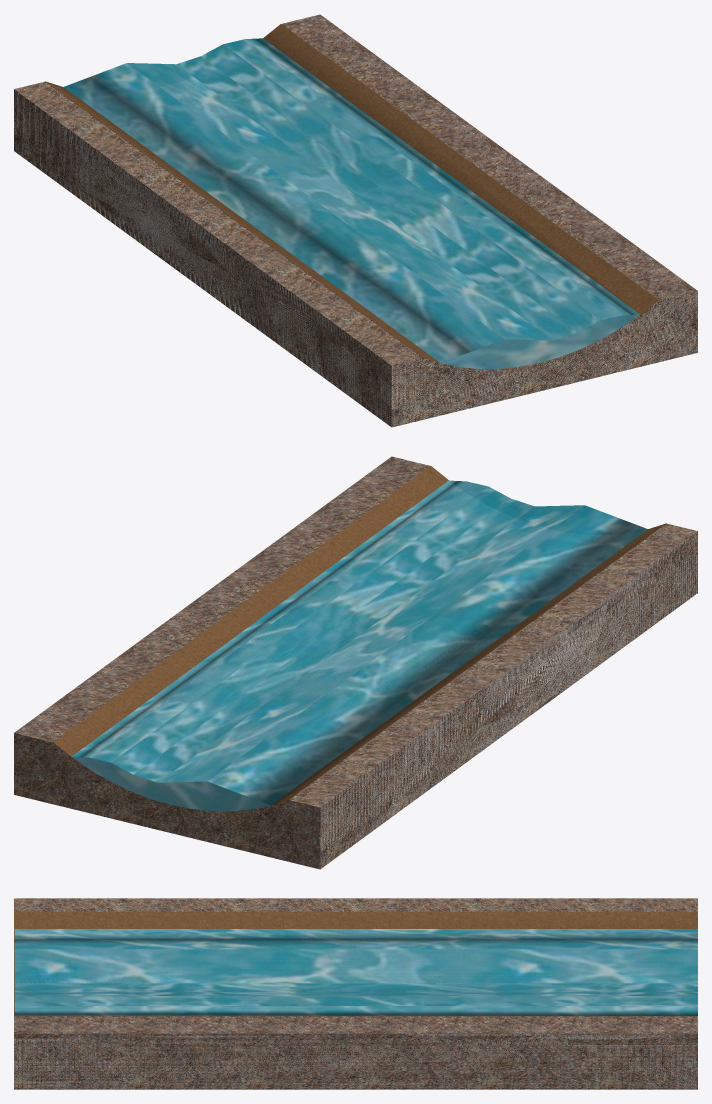
Rendered from wire.fbx.
3 views of the same model, one above another, from view 1: azimuth 30°, elevation 25°; view 2: azimuth 150°, elevation 25°; view 3: azimuth 270°, elevation 25° (orthographic). The views are drawn at different scales.
Visible parts, largest first — view 1: Model; view 2: Model; view 3: Model.
Part boxes in pixels (box(x1,y1,x2,y2)): Model: box(14, 14, 697, 427); Model: box(14, 456, 697, 869); Model: box(14, 898, 697, 1089).
Size of the model in its own units: 65.06 by 12.62 by 139.
